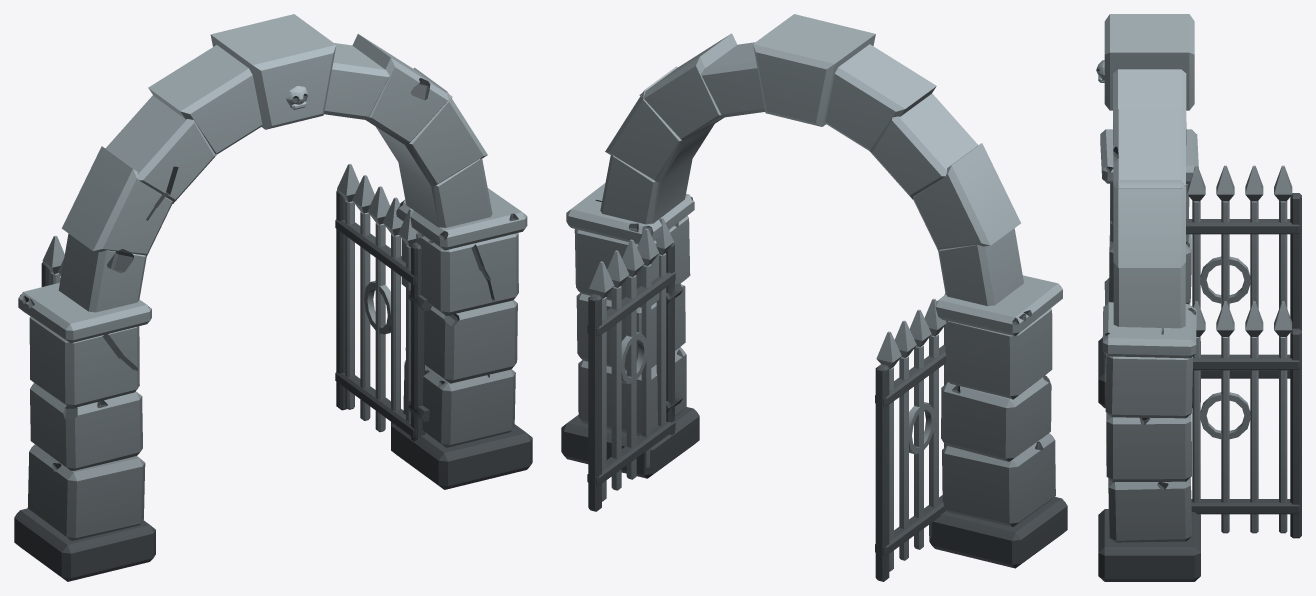
Rendered from graveyard_gate.glb.
3 views of the same model, side by side, from view 1: azimuth 30°, elevation 25°; view 2: azimuth 150°, elevation 25°; view 3: azimuth 270°, elevation 25° (orthographic). The views are drawn at different scales.
Visible parts, largest first — view 1: graveyard_gate; view 2: graveyard_gate; view 3: graveyard_gate.
Boxes of the visible parts, box(x1,y1,x2,y2) form: graveyard_gate: box(14, 14, 532, 581); graveyard_gate: box(561, 14, 1067, 581); graveyard_gate: box(1096, 14, 1301, 581).
Size of the model in its own units: 4 by 3.81 by 1.6.
1 material, 1 textured.
